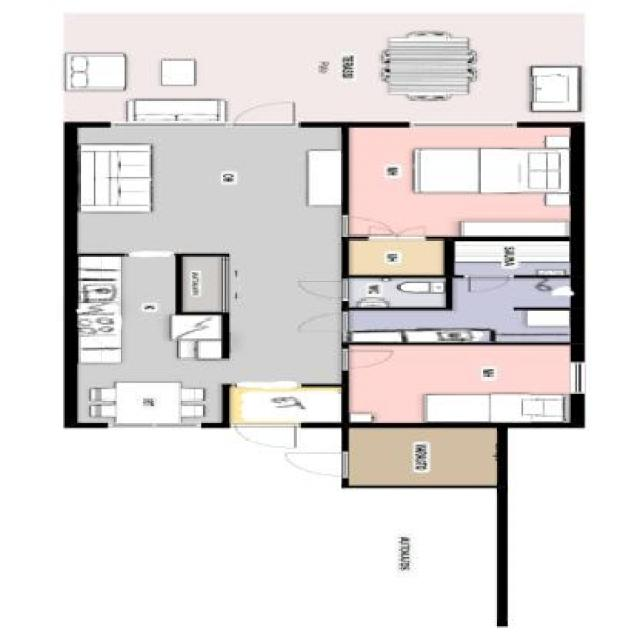door: (235, 421, 312, 454), (285, 455, 360, 477), (236, 104, 296, 130), (329, 349, 408, 368), (289, 316, 362, 336), (292, 280, 352, 298), (342, 217, 392, 235), (463, 278, 514, 291), (375, 226, 423, 239)
window: (558, 362, 592, 396), (415, 120, 514, 128), (108, 122, 220, 129), (106, 422, 202, 426)
zone: (79, 122, 338, 418), (65, 12, 572, 122), (343, 237, 585, 346), (356, 128, 570, 237), (338, 343, 564, 420), (349, 426, 502, 486), (348, 238, 449, 272), (346, 277, 445, 305)
